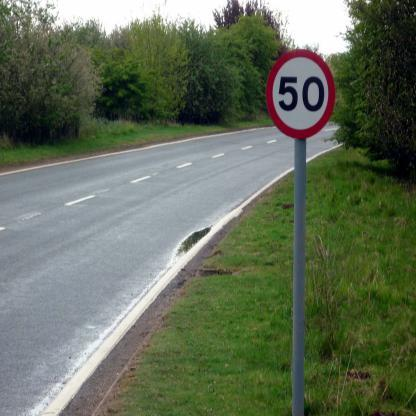Speed Limit 50: (267, 50, 333, 138)
